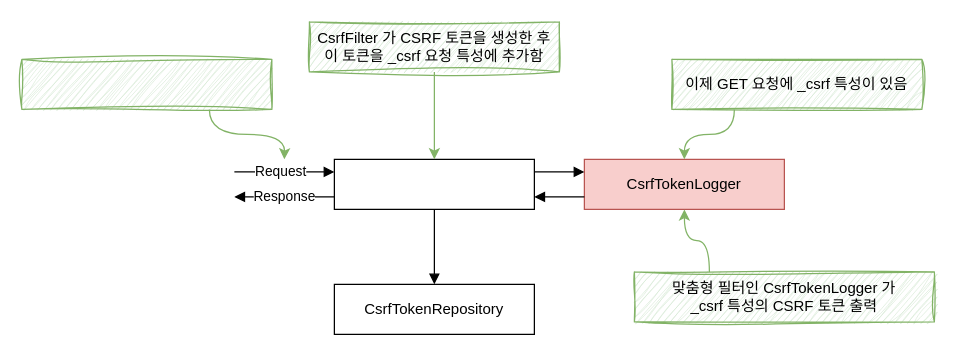
Some shapes in this 956 by 356 pixel diagram are drawn without their labels. The centre of each missing label's shape, as x and y in pixels:
"CsrfFilter" belongs at point 433,183.
"CsrfFilter 에 도달하기 전의 GET HTTP 요청에는 _csrf 특성이 없음" belongs at point 146,83.
